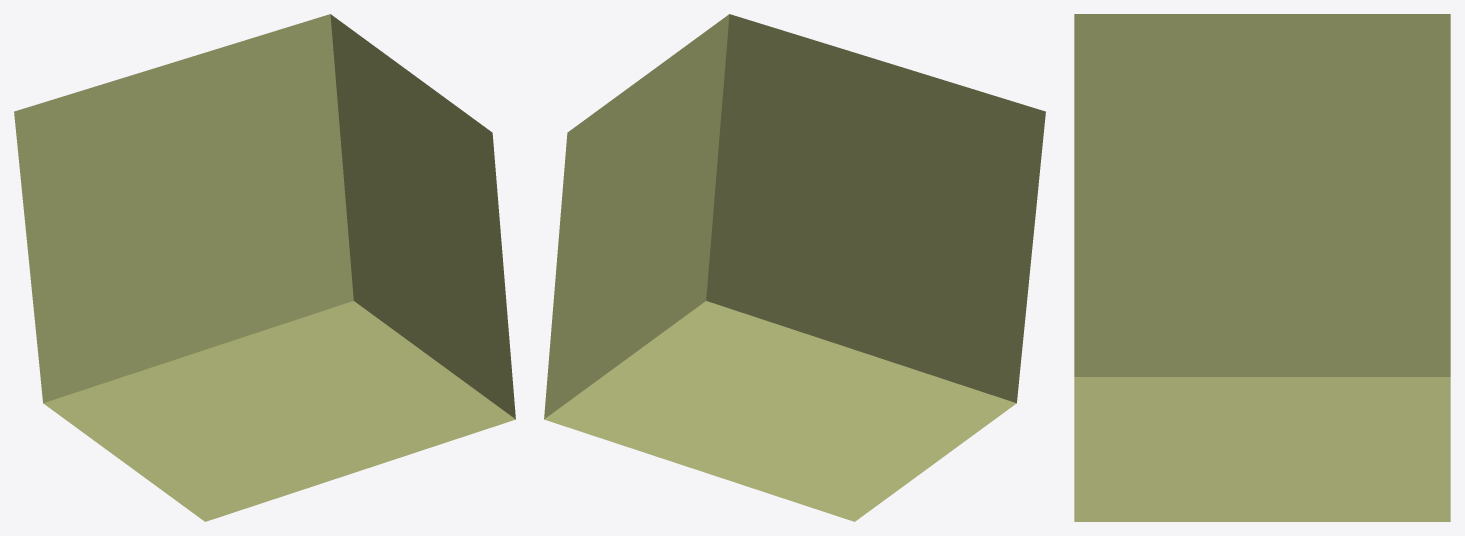
3 views of the same model, side by side, from view 1: azimuth 30°, elevation 25°; view 2: azimuth 150°, elevation 25°; view 3: azimuth 270°, elevation 25° (orthographic). The views are drawn at different scales.
Parts seen in each view (by area): view 1: 0_1_1_3_3_1_1_3_3_3_2; view 2: 0_1_1_3_3_1_1_3_3_3_2; view 3: 0_1_1_3_3_1_1_3_3_3_2.
Part boxes in pixels (x1=…): 0_1_1_3_3_1_1_3_3_3_2: x1=14, y1=14, x2=515, y2=521; 0_1_1_3_3_1_1_3_3_3_2: x1=544, y1=14, x2=1045, y2=521; 0_1_1_3_3_1_1_3_3_3_2: x1=1074, y1=14, x2=1450, y2=521.
Size of the model in its own units: 7.26 by 6.52 by 6.
